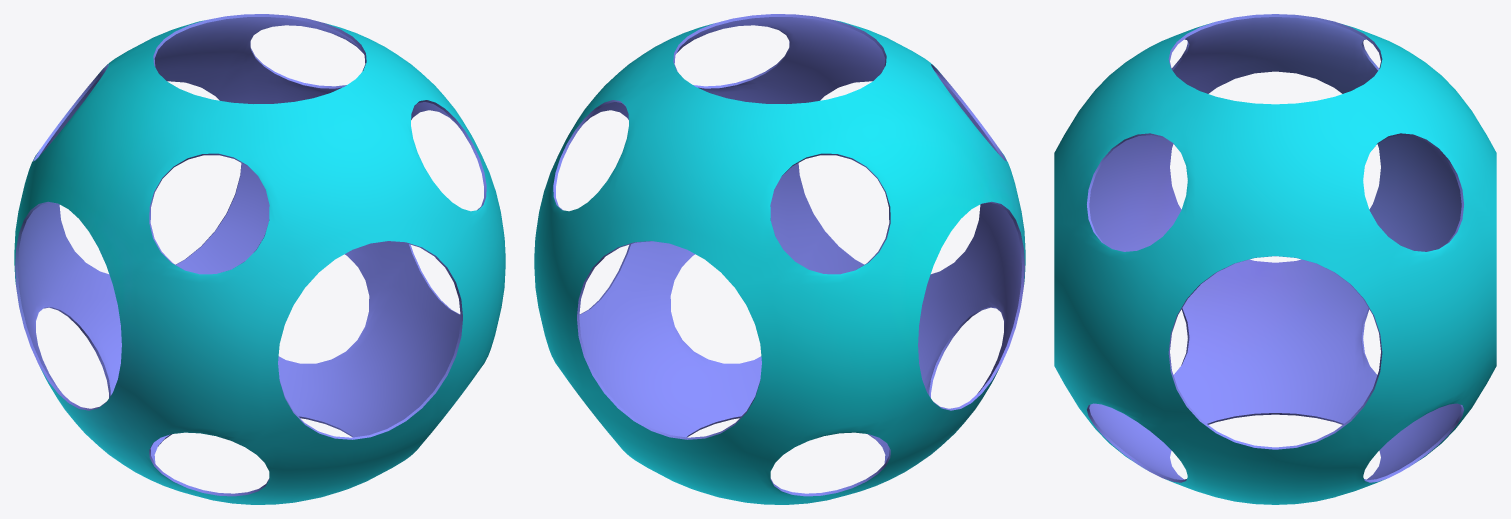
Rendered from hole_ball.glb.
3 views of the same model, side by side, from view 1: azimuth 30°, elevation 25°; view 2: azimuth 150°, elevation 25°; view 3: azimuth 270°, elevation 25° (orthographic).
Parts seen in each view (by area): view 1: Object_8; view 2: Object_8; view 3: Object_8.
Part boxes in pixels (x1=…): Object_8: x1=14, y1=14, x2=505, y2=504; Object_8: x1=534, y1=14, x2=1025, y2=504; Object_8: x1=1054, y1=14, x2=1496, y2=504.
Size of the model in its own units: 0.8977 by 0.8977 by 0.8977.
1 material, 1 textured.
